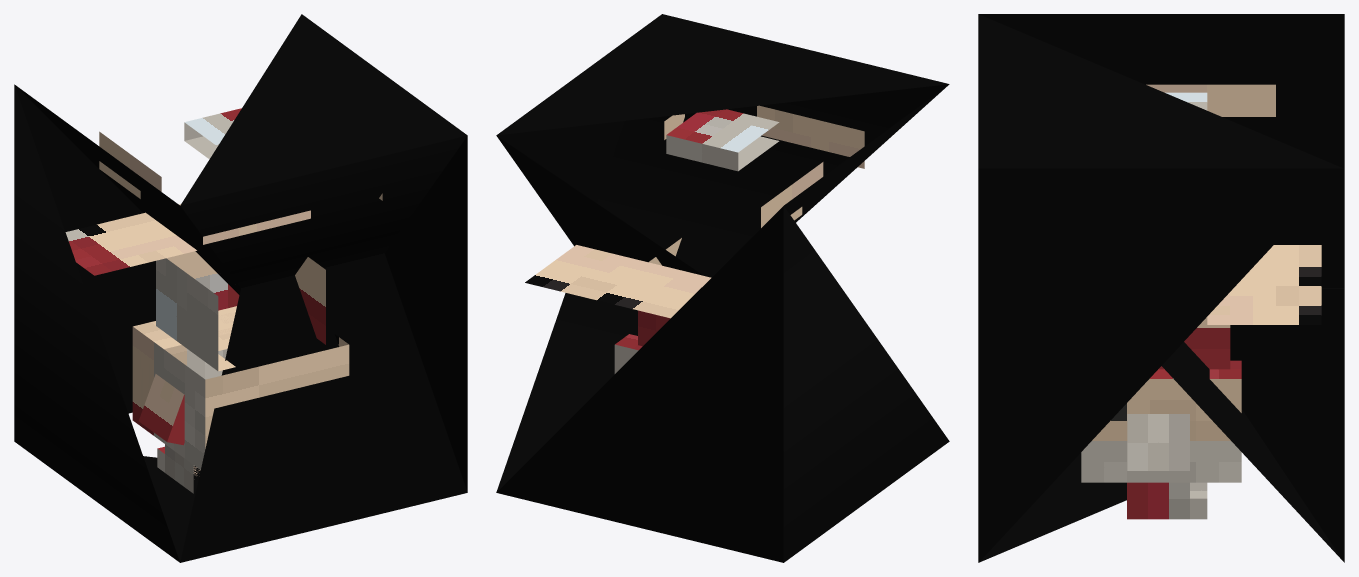
3 views of the same model, side by side, from view 1: azimuth 30°, elevation 25°; view 2: azimuth 150°, elevation 25°; view 3: azimuth 270°, elevation 25° (orthographic). The views are drawn at different scales.
Visible parts, largest first — view 1: mushroom-man; view 2: mushroom-man; view 3: mushroom-man.
Boxes of the visible parts, bbox=[...] form: mushroom-man: bbox=[14, 14, 467, 562]; mushroom-man: bbox=[496, 14, 949, 562]; mushroom-man: bbox=[978, 14, 1344, 562].
Bounding box in the file's own units: 1 × 1.19 × 1.
Materials: 2 (2 with a texture image).
